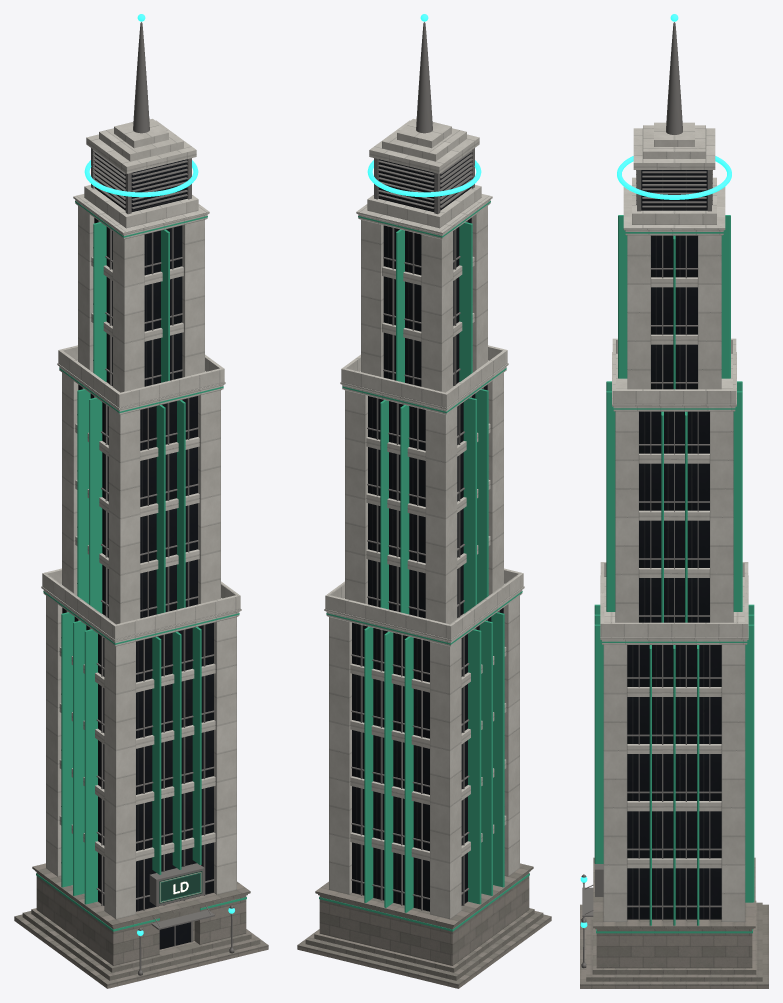
The model's file is s26-lyka-dao.glb.
The picture shows the model from 3 angles, left to right: view 1: azimuth 30°, elevation 25°; view 2: azimuth 150°, elevation 25°; view 3: azimuth 270°, elevation 25°; orthographic projection.
Visible parts, largest first — view 1: Landmark · Lyka DAO (Series 26); view 2: Landmark · Lyka DAO (Series 26); view 3: Landmark · Lyka DAO (Series 26).
Boxes of the visible parts, x1,y1,x2,y2 form: Landmark · Lyka DAO (Series 26): (14,14,268,988); Landmark · Lyka DAO (Series 26): (297,14,551,988); Landmark · Lyka DAO (Series 26): (580,14,768,988).
Size of the model in its own units: 12 by 65.5 by 12.
7 materials, 4 textured.
